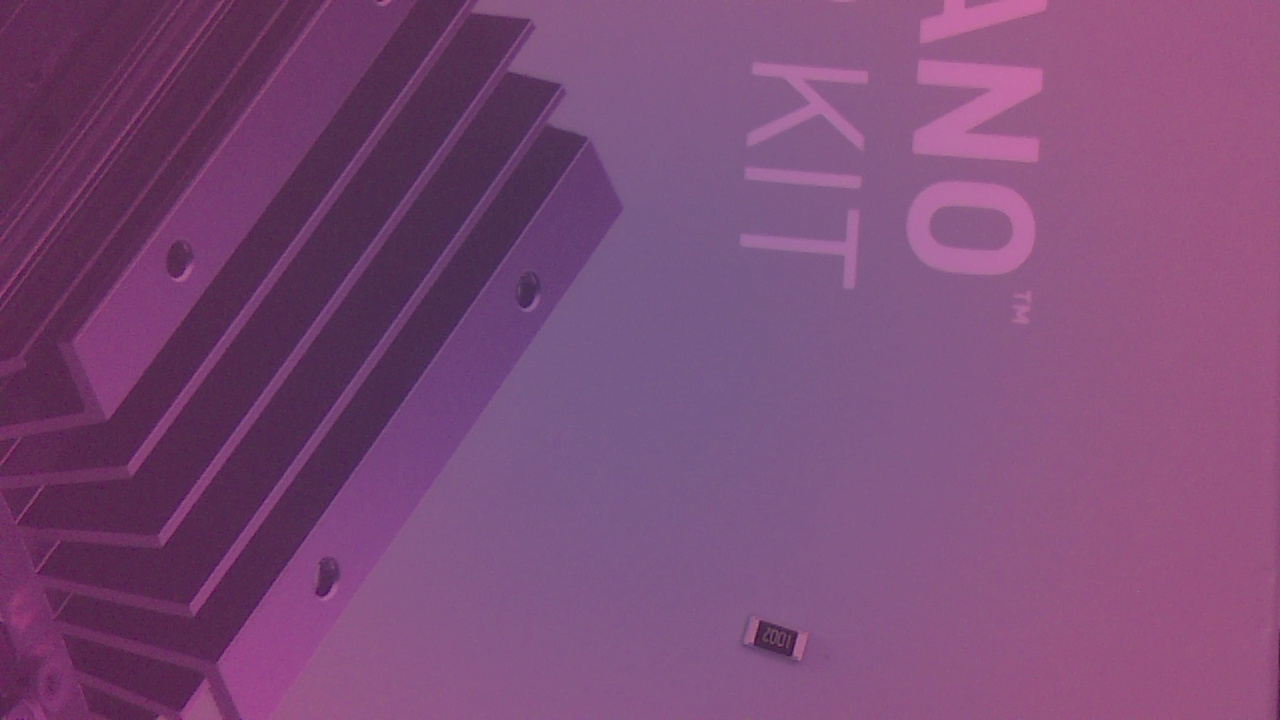Resistor: (740, 615, 820, 671)
